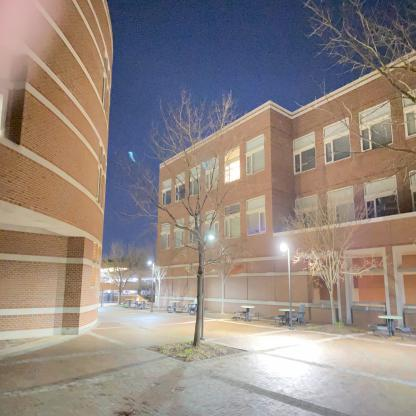eb2: (157, 72, 416, 335)
